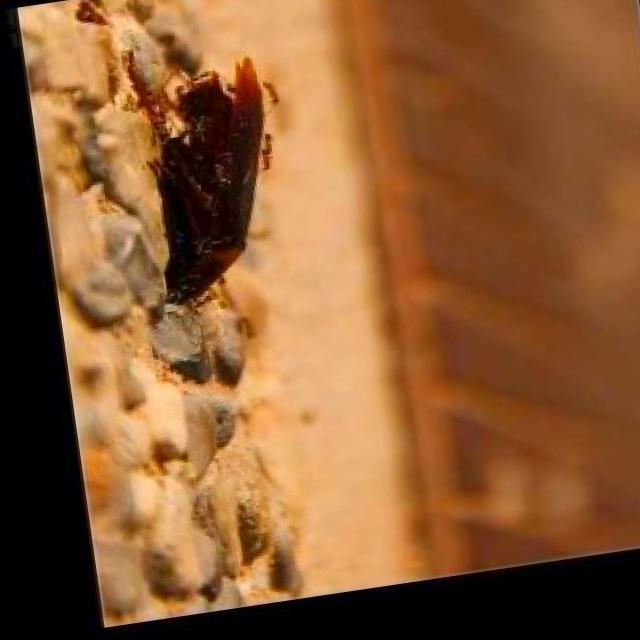cockroach: (123, 25, 297, 377)
